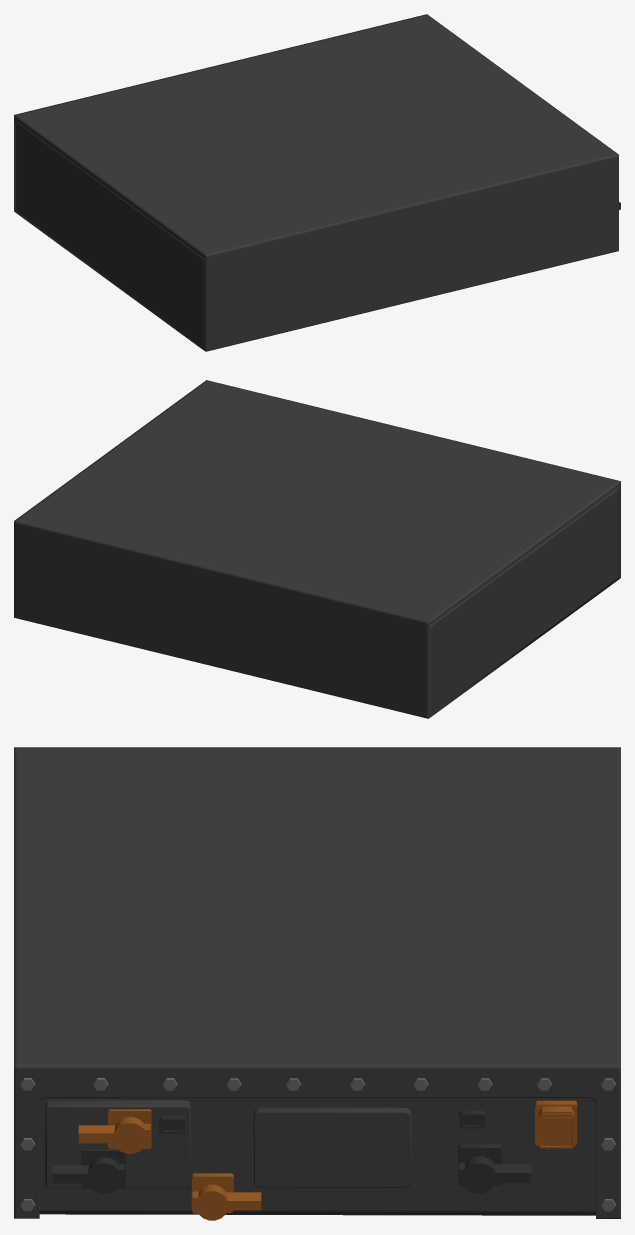
Rendered from packshell03.glb.
3 views of the same model, one above another, from view 1: azimuth 30°, elevation 25°; view 2: azimuth 150°, elevation 25°; view 3: azimuth 270°, elevation 25° (orthographic). The views are drawn at different scales.
Parts seen in each view (by area): view 1: PS03_up008, PS03_CELL008; view 2: PS03_up008, PS03_CELL008; view 3: PS03_up008, PS03_CELL008.
Part boxes in pixels (bbox=[...]): PS03_up008: bbox=[14, 14, 618, 351]; PS03_CELL008: bbox=[15, 120, 620, 350]; PS03_up008: bbox=[14, 380, 620, 718]; PS03_CELL008: bbox=[429, 487, 619, 717]; PS03_up008: bbox=[14, 747, 620, 1218]; PS03_CELL008: bbox=[39, 1098, 595, 1220].
Size of the model in its own units: 0.9488 by 0.2037 by 0.7346.
